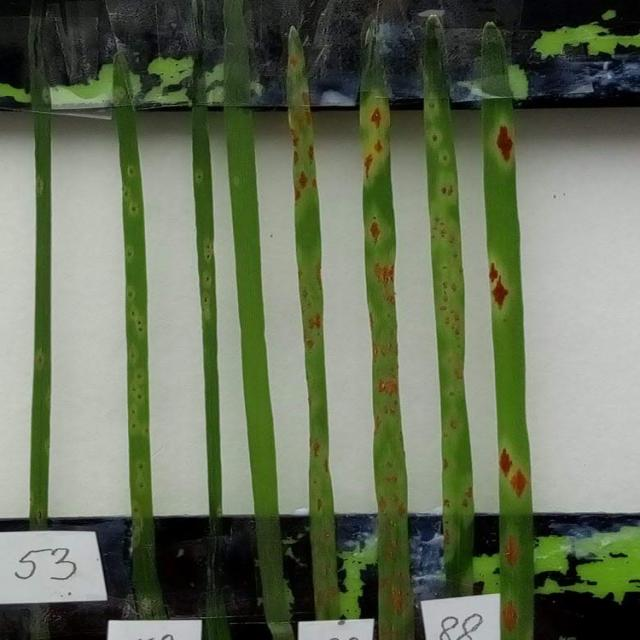wheat-stemrust: (360, 94, 420, 640), (482, 100, 537, 640), (288, 29, 338, 618), (428, 140, 475, 595), (113, 108, 149, 517), (193, 106, 221, 516)
